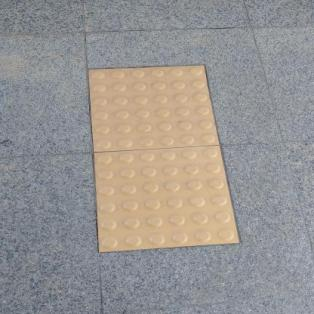Podoctatil: (79, 59, 249, 257)
